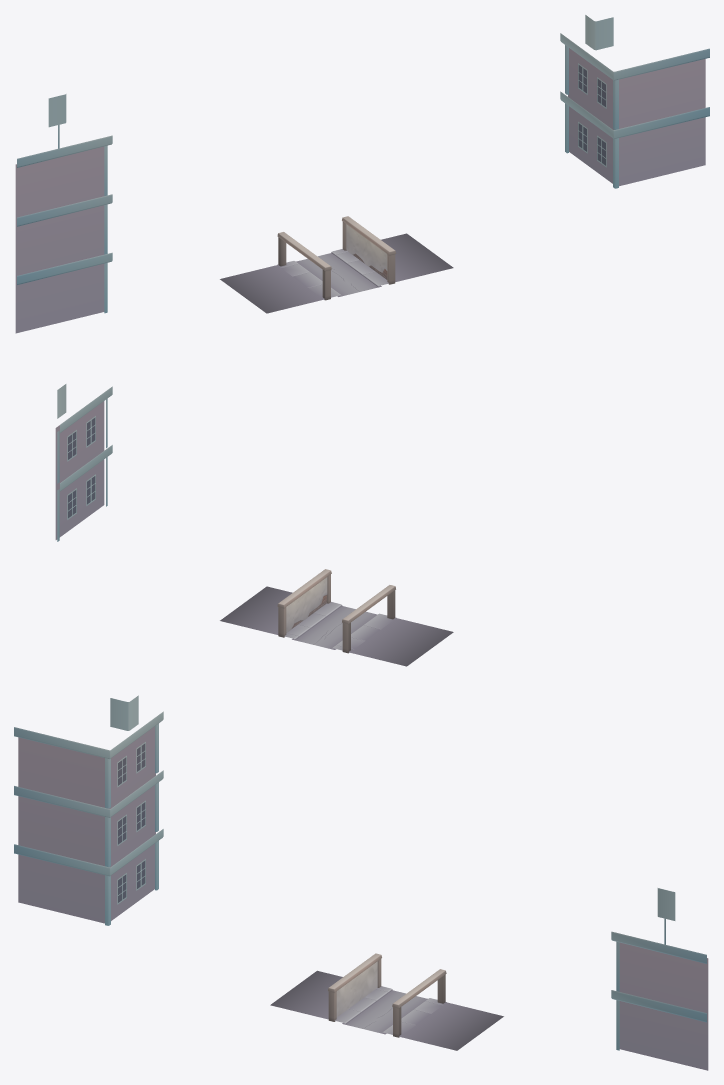
The model's file is UrbanPlasterWalls01.prefab.glb.
3 views of the same model, one above another, from view 1: azimuth 30°, elevation 25°; view 2: azimuth 150°, elevation 25°; view 3: azimuth 330°, elevation 25° (orthographic).
Visible parts, largest first — view 1: FarBackBuilding01, UrbanPlasterWalls01, PlasteredWall02, PlasteredWall01; view 2: UrbanPlasterWalls01, FarBackBuilding01, PlasteredWall02, PlasteredWall01; view 3: FarBackBuilding01, UrbanPlasterWalls01, PlasteredWall01, PlasteredWall02.
Part boxes in pixels (<box>): FarBackBuilding01: <box>15,15,709,333</box>; UrbanPlasterWalls01: <box>220,233,453,313</box>; PlasteredWall02: <box>342,216,396,284</box>; PlasteredWall01: <box>277,232,331,300</box>; UrbanPlasterWalls01: <box>220,586,453,666</box>; FarBackBuilding01: <box>55,384,112,541</box>; PlasteredWall02: <box>277,569,331,637</box>; PlasteredWall01: <box>342,585,395,653</box>; FarBackBuilding01: <box>14,695,708,1070</box>; UrbanPlasterWalls01: <box>270,970,503,1050</box>; PlasteredWall01: <box>327,953,381,1021</box>; PlasteredWall02: <box>392,969,446,1037</box>.
Bounding box in the file's own units: 76.34 × 26.74 × 10.17.
3 materials, 2 textured.
